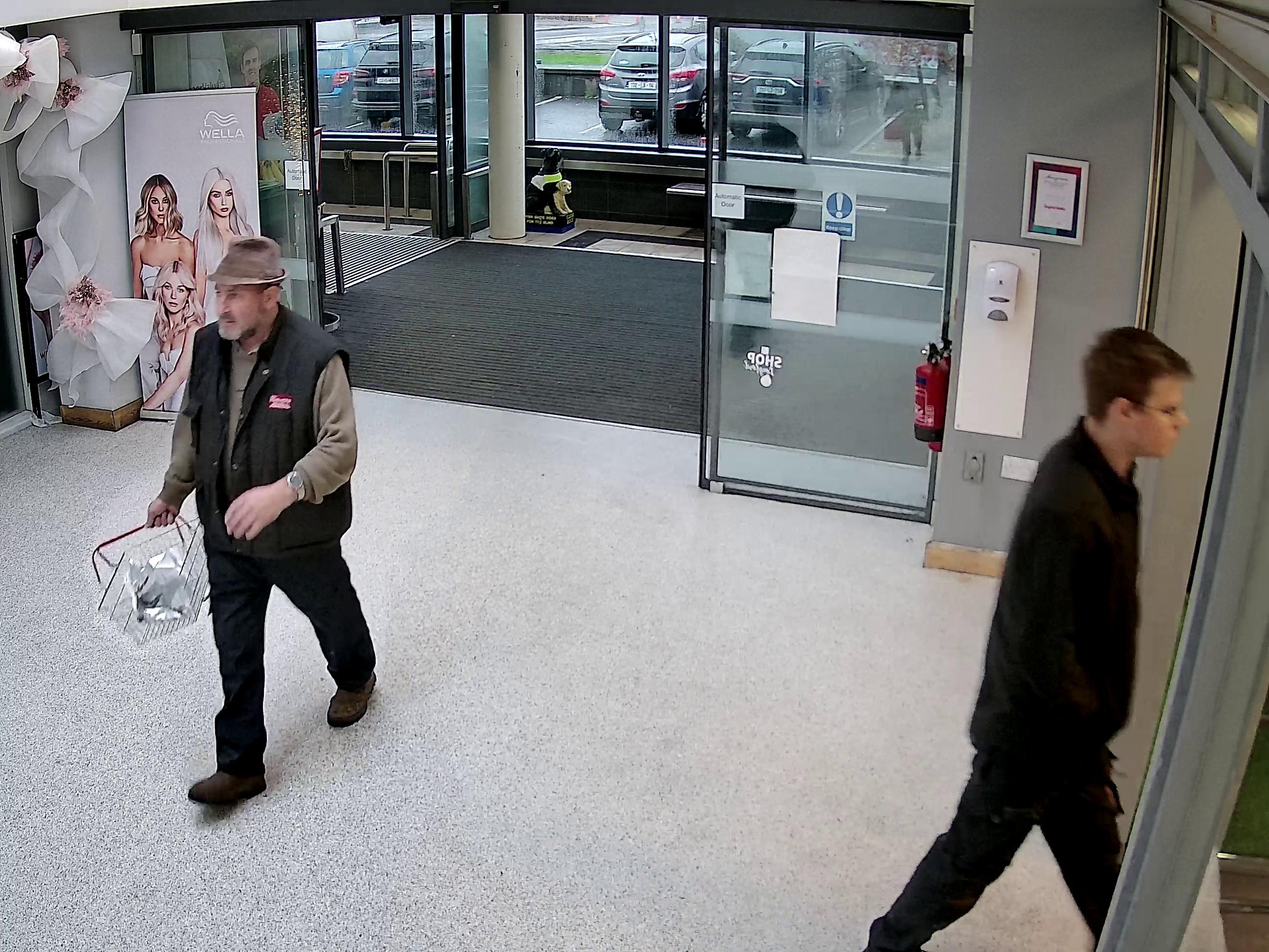empty-basket: (93, 511, 218, 647)
empty-shopping-bags: (125, 550, 196, 620)
person: (148, 238, 377, 811)
person-with-basket-trolly-and-shopping-bag: (93, 238, 377, 810)
